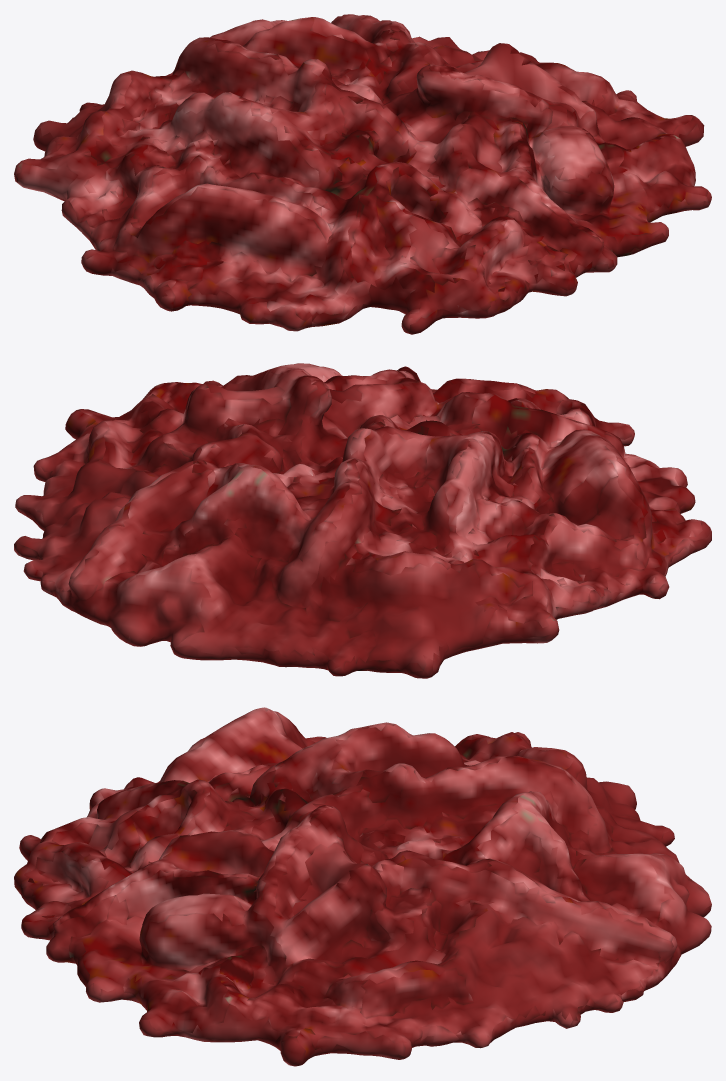
Rendered from SARGM0.obj.
3 renders of one model, top to bottom at view 1: azimuth 30°, elevation 25°; view 2: azimuth 150°, elevation 25°; view 3: azimuth 270°, elevation 25°, orthographic. The views are drawn at different scales.
Size of the model in its own units: 1 by 0.2247 by 0.9549.
1 material, 1 textured.
